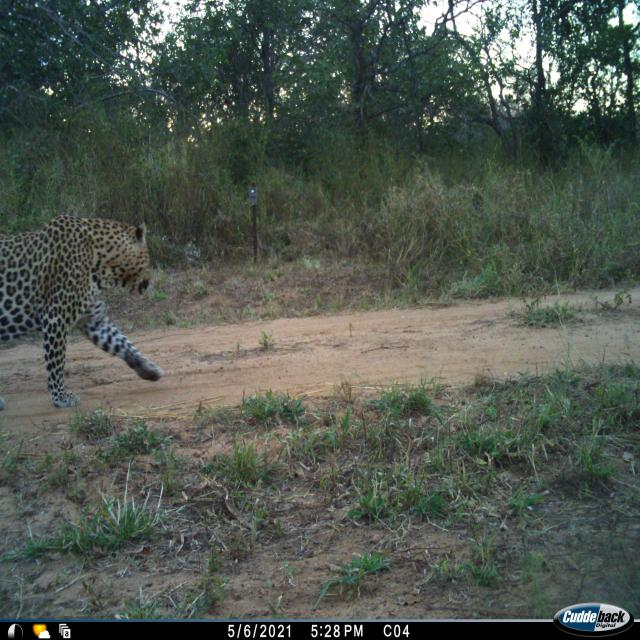Leopard: (0, 200, 168, 418)
